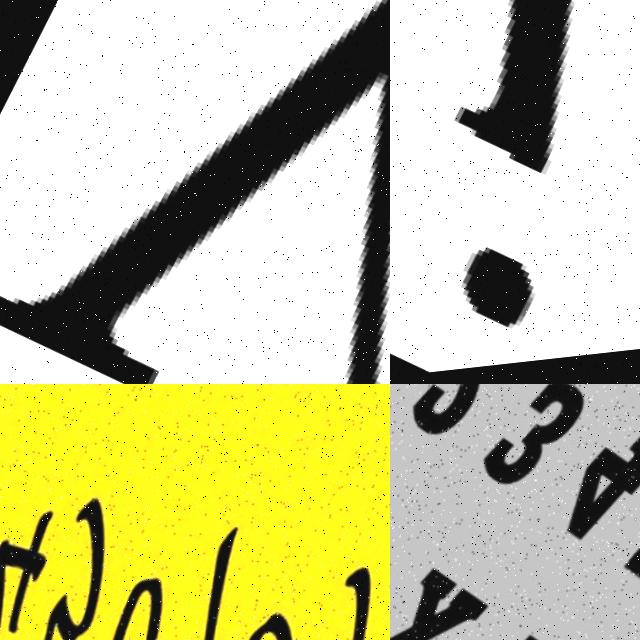2: (390, 384, 543, 476)
3: (457, 384, 607, 524)
4: (504, 388, 640, 597), (0, 482, 101, 640)
5: (0, 465, 183, 640), (585, 443, 640, 640)
6: (10, 536, 228, 640)
7: (80, 493, 322, 640)
8: (132, 575, 357, 640)
9: (226, 545, 390, 640)
J: (390, 0, 640, 369)
V: (0, 0, 390, 384)
